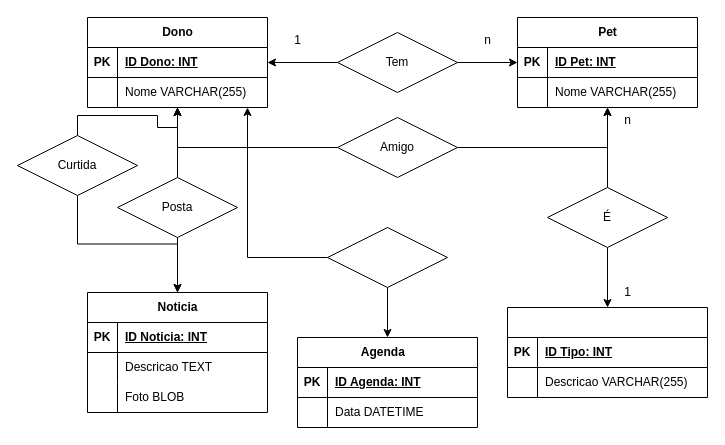
This 725x445 diagram has some shape labels left out. The shapes that lost their labels are listed below. From the top down, each one's box as (x1, y1, x2, y2) in pixels, then its label:
(326, 226, 448, 288): Registra
(506, 306, 708, 398): TipoPet
